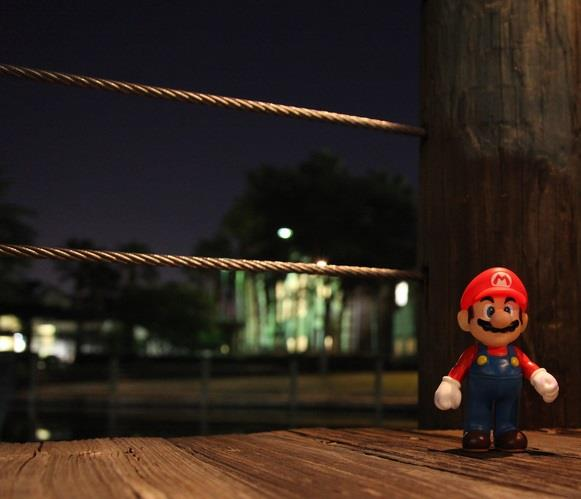mario: (428, 260, 565, 468)
